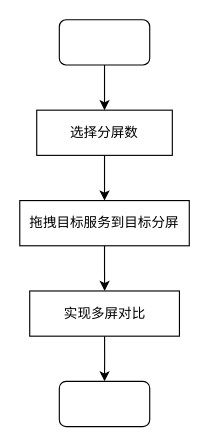
This 209x446 diagram has some shape labels left out. Here are the shapes that lost their labels. From the top down, the box of each, then its label:
(58, 19, 150, 65): 开始
(58, 380, 150, 427): 结束
